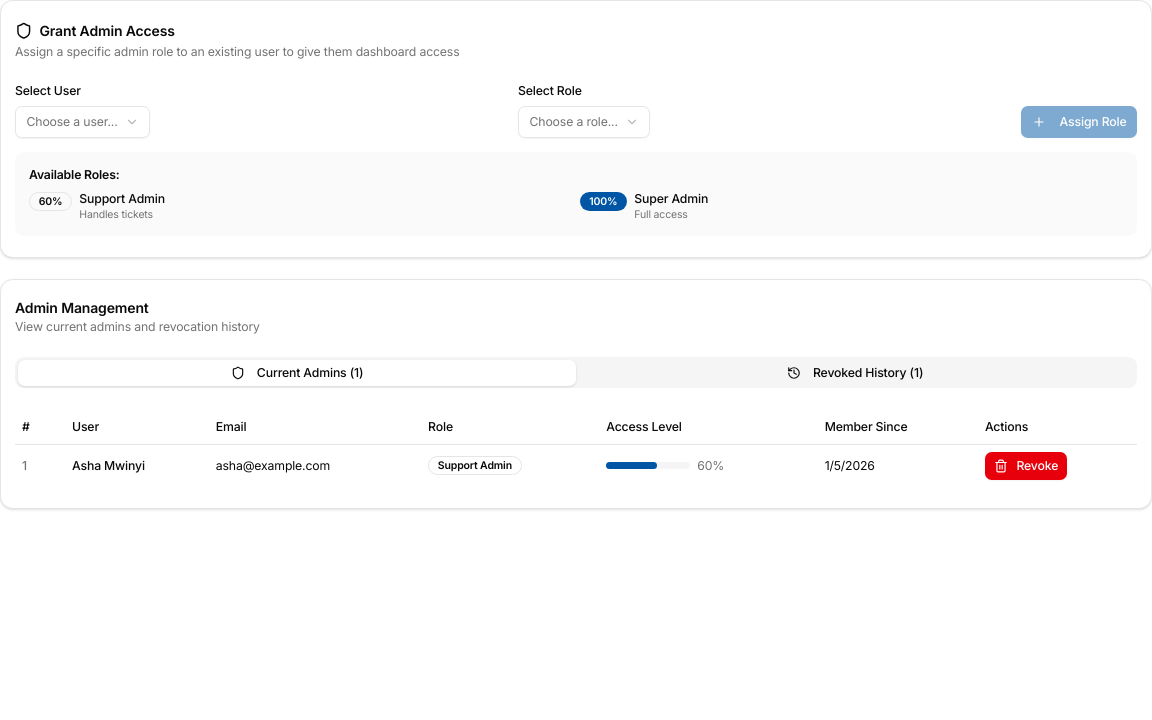
Scenario: AdminUsersManagementTab › grant admin access › resets the selections after a successful grant
The image size is (1152, 720).
What coordinates should you click on to do the following:
click the dropdown "Choose a user..."
I would click on:
 (83, 122)
Its box is [15, 106, 150, 138].
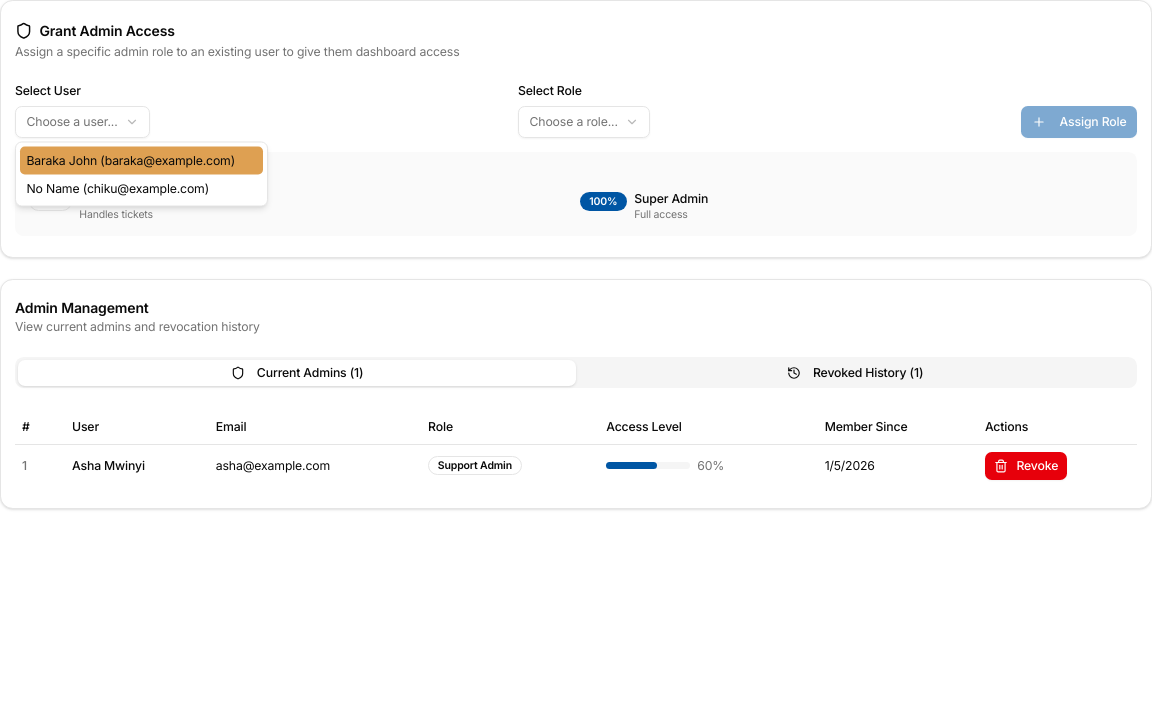
What coordinates should you click on to do the following:
click the option "Baraka John (baraka@example.com)"
I would click on:
 (141, 160)
Its box is [20, 146, 263, 174].
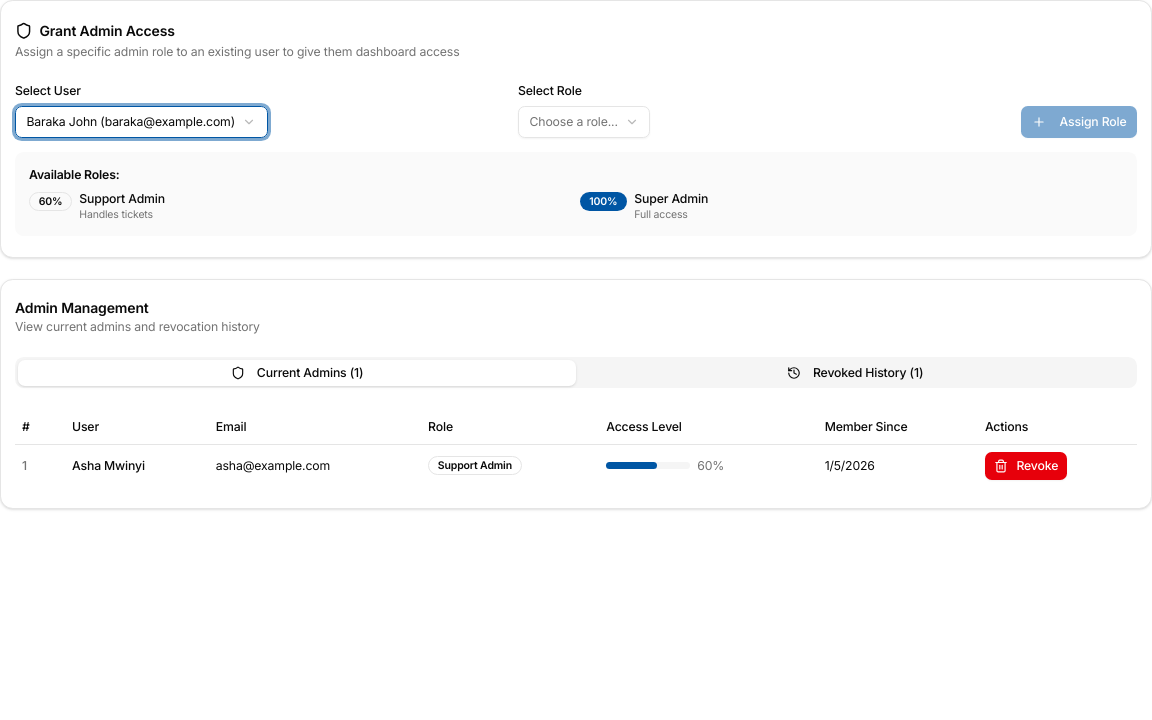
What coordinates should you click on to do the following:
click the dropdown "Choose a role..."
I would click on:
 (584, 122)
Its box is [518, 106, 650, 138].
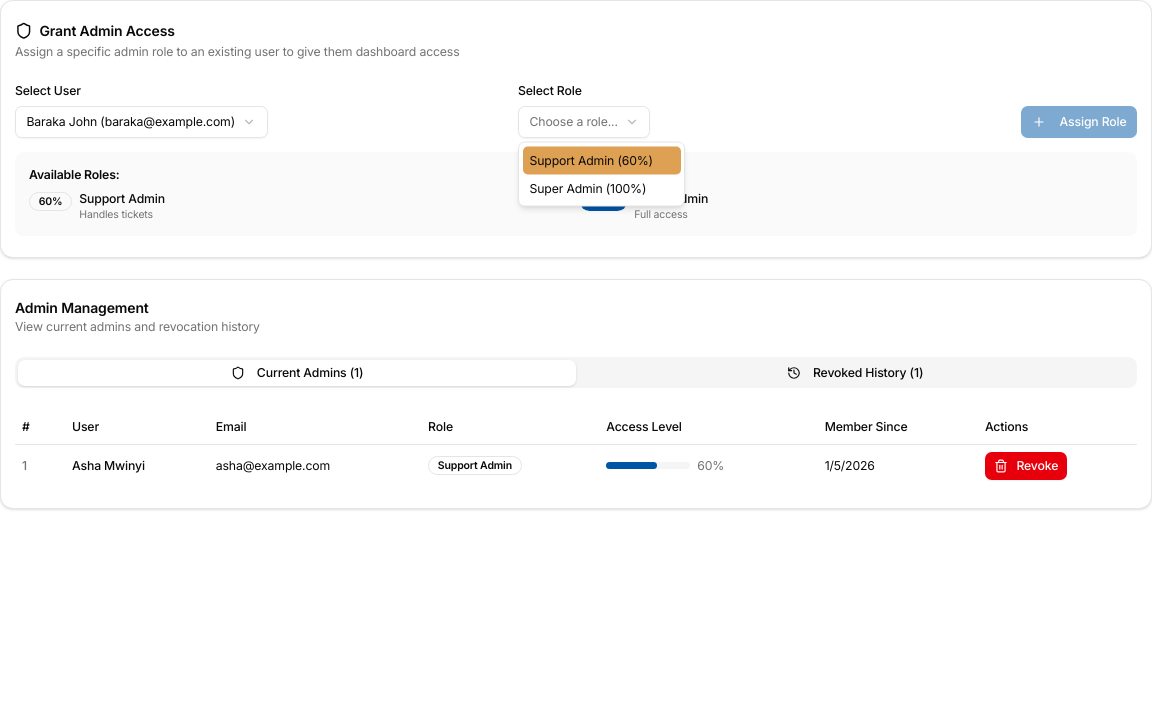
What coordinates should you click on to do the following:
click the option "Support Admin (60%)"
I would click on:
 (602, 160)
Its box is [522, 146, 681, 174].
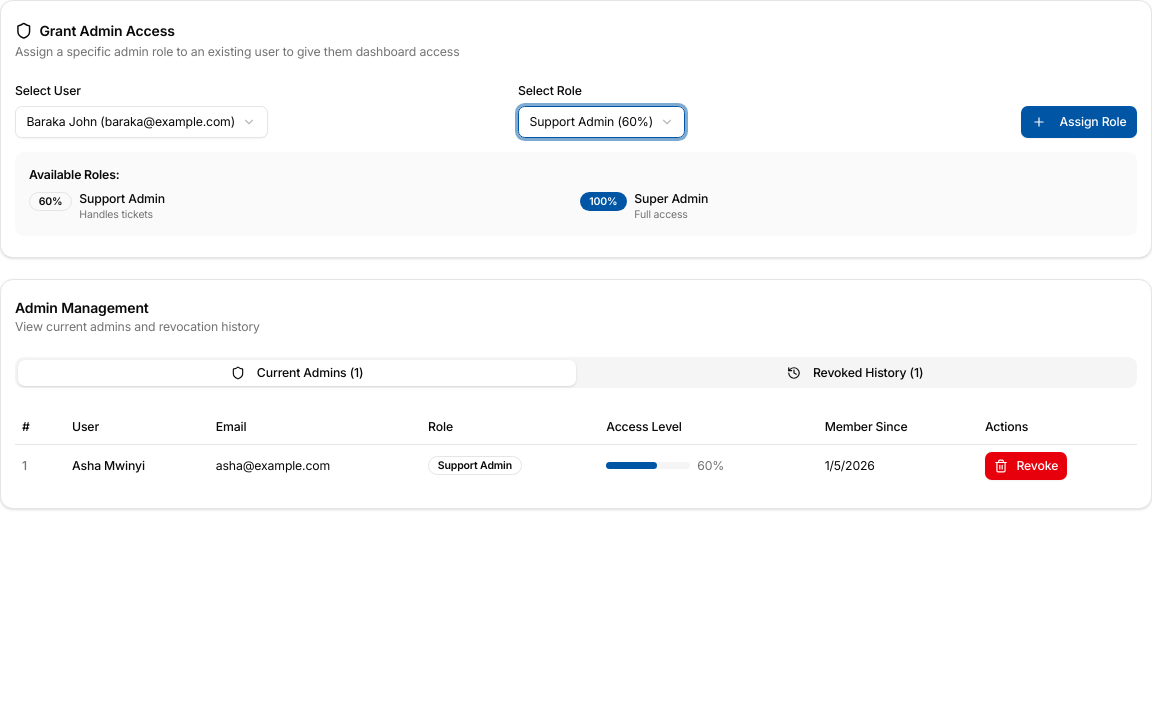
What coordinates should you click on to do the following:
click the button "Assign Role"
I would click on:
 (1079, 122)
Its box is [1021, 106, 1137, 138].
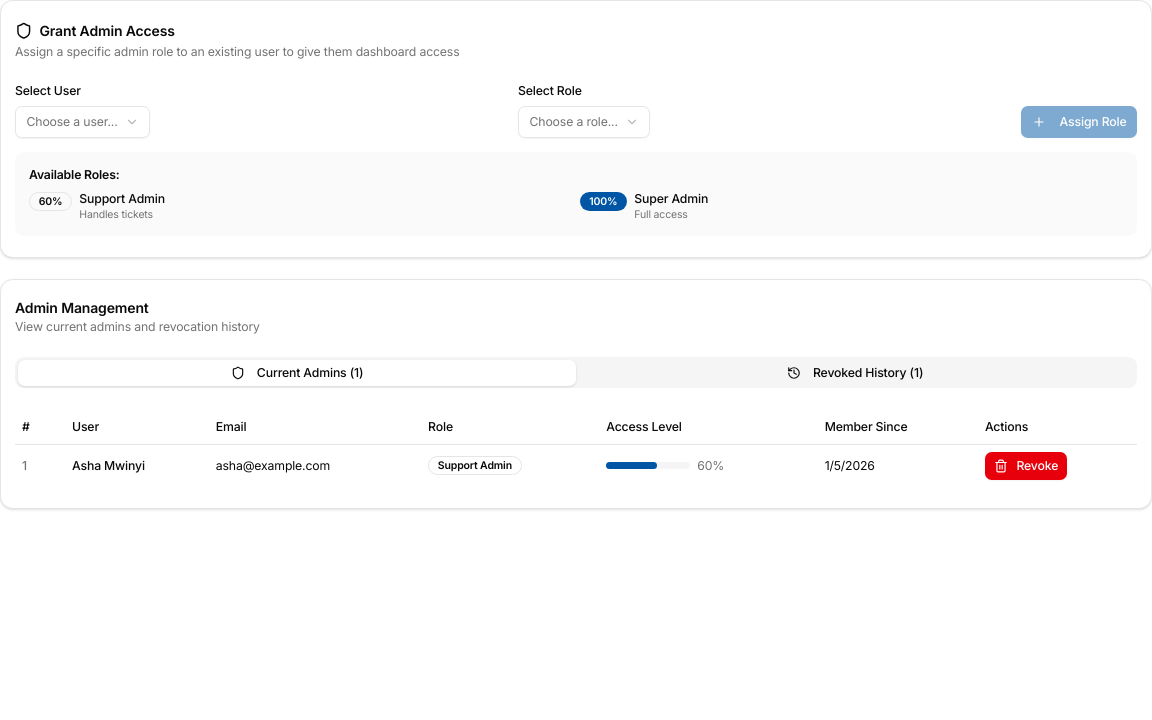
Check: the text "Choose a user..." is shown, box [26, 113, 118, 130]
Check: the text "Choose a role..." is shown, box [530, 113, 618, 130]
